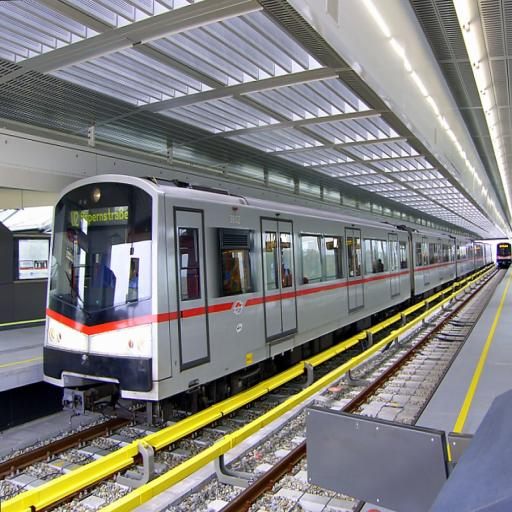V-Wagen: (42, 170, 492, 400)
